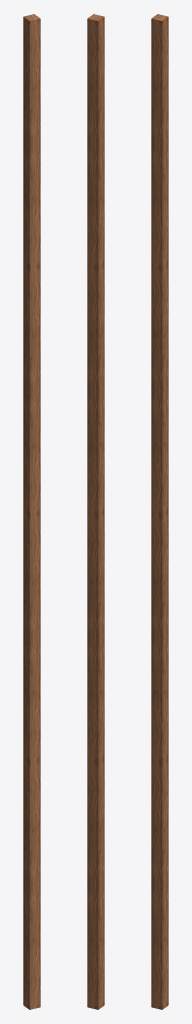
Rendered from Pole.fbx.
3 renders of one model, left to right at view 1: azimuth 30°, elevation 25°; view 2: azimuth 150°, elevation 25°; view 3: azimuth 330°, elevation 25°, orthographic.
Parts seen in each view (by area): view 1: Cube; view 2: Cube; view 3: Cube.
Boxes of the visible parts, x1,y1,x2,y2 form: Cube: [23, 14, 40, 1009]; Cube: [87, 14, 104, 1009]; Cube: [151, 14, 168, 1009].
Size of the model in its own units: 0.1843 by 16 by 0.1843.
